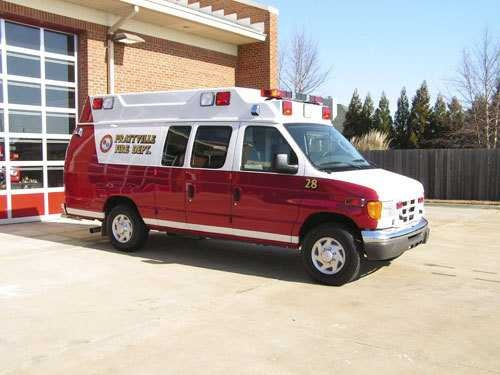Fire Truck: (52, 78, 444, 279)
